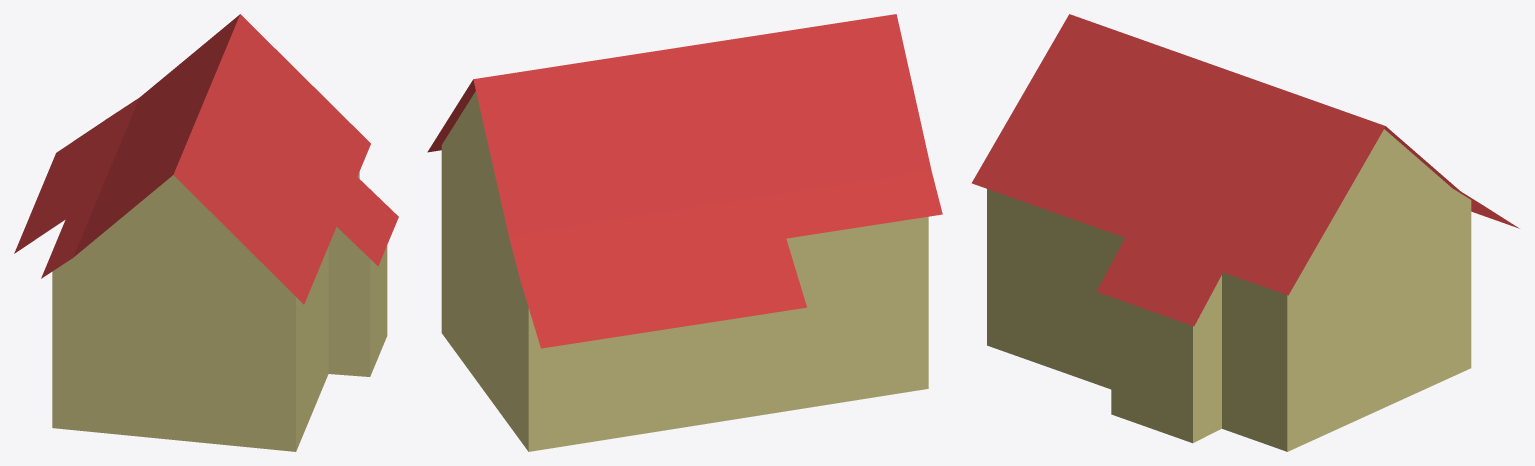
The picture shows the model from 3 angles, left to right: view 1: azimuth 30°, elevation 25°; view 2: azimuth 150°, elevation 25°; view 3: azimuth 270°, elevation 25°; orthographic projection. The views are drawn at different scales.
Size of the model in its own units: 22.35 by 25.75 by 14.89.
